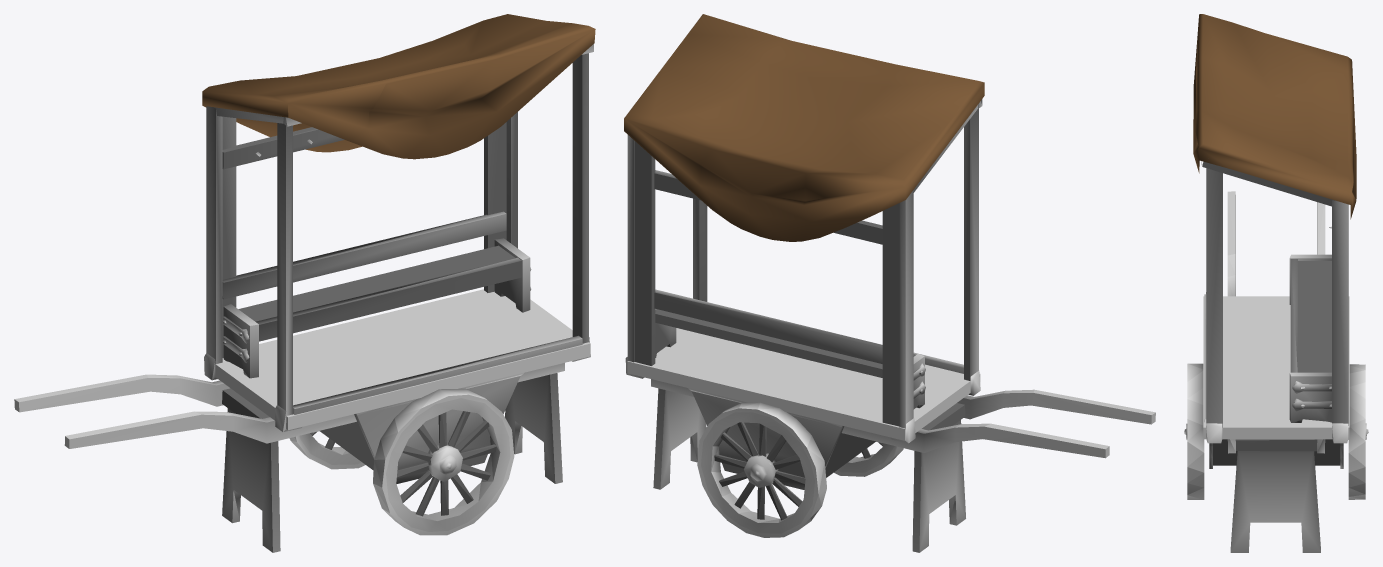
File: pq_charrette_etal.glb
3 renders of one model, left to right at view 1: azimuth 30°, elevation 25°; view 2: azimuth 150°, elevation 25°; view 3: azimuth 270°, elevation 25°, orthographic. The views are drawn at different scales.
Parts seen in each view (by area): view 1: Stall_Cart_Empty; view 2: Stall_Cart_Empty; view 3: Stall_Cart_Empty.
Part boxes in pixels (box(x1,y1,x2,y2)): Stall_Cart_Empty: box(14, 14, 595, 552); Stall_Cart_Empty: box(624, 14, 1155, 552); Stall_Cart_Empty: box(1184, 14, 1368, 552).
Size of the model in its own units: 2.52 by 2.2 by 0.8866.
